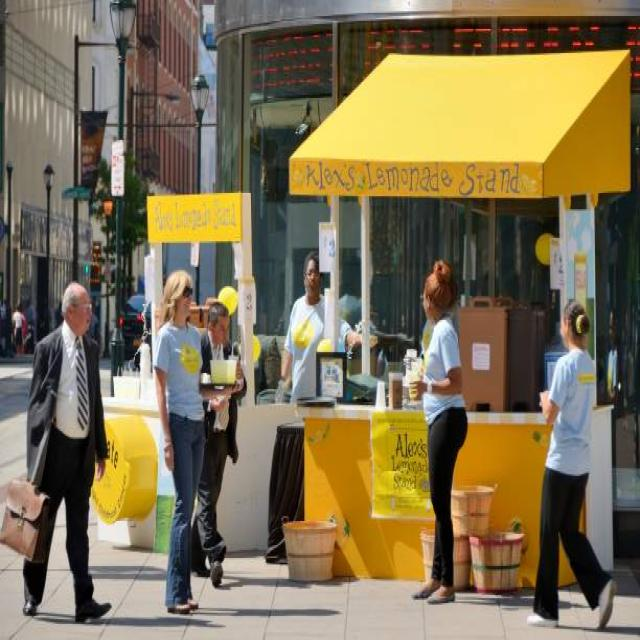Emperan: (85, 39, 640, 584)
